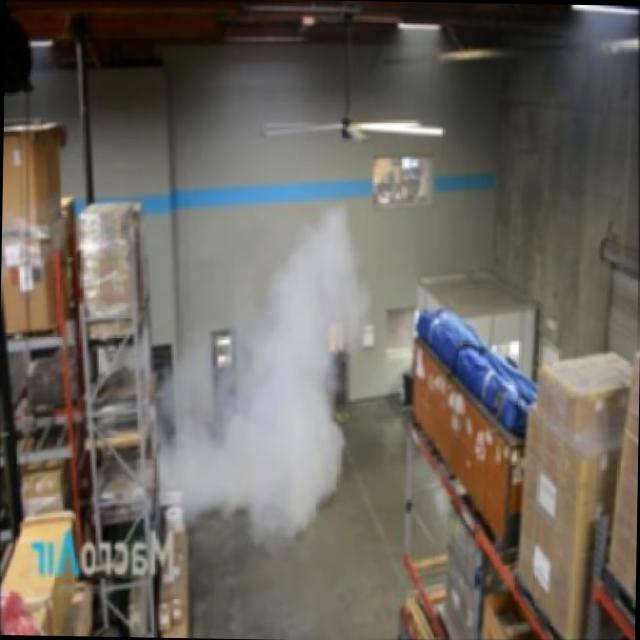smoke: (188, 212, 350, 511)
